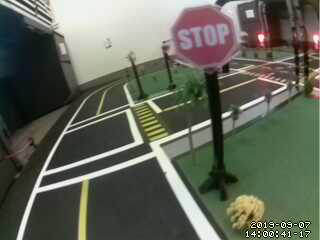Stop_Sign: (163, 3, 241, 68)
